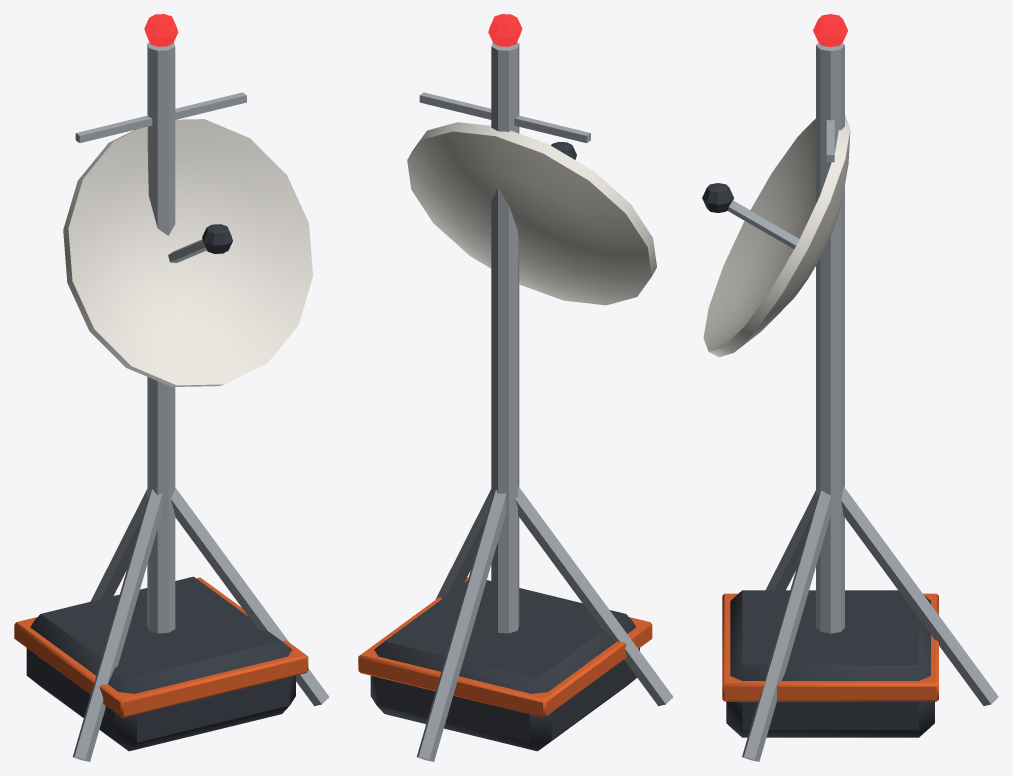
Rendered from antenna_small.glb.
3 renders of one model, left to right at view 1: azimuth 30°, elevation 25°; view 2: azimuth 150°, elevation 25°; view 3: azimuth 270°, elevation 25°, orthographic.
Parts seen in each view (by area): view 1: antenna_small; view 2: antenna_small; view 3: antenna_small.
Boxes of the visible parts, x1,y1,x2,y2 form: antenna_small: (14,14,329,761); antenna_small: (358,14,673,761); antenna_small: (702,14,998,761).
Size of the model in its own units: 0.3664 by 0.9483 by 0.3695.
